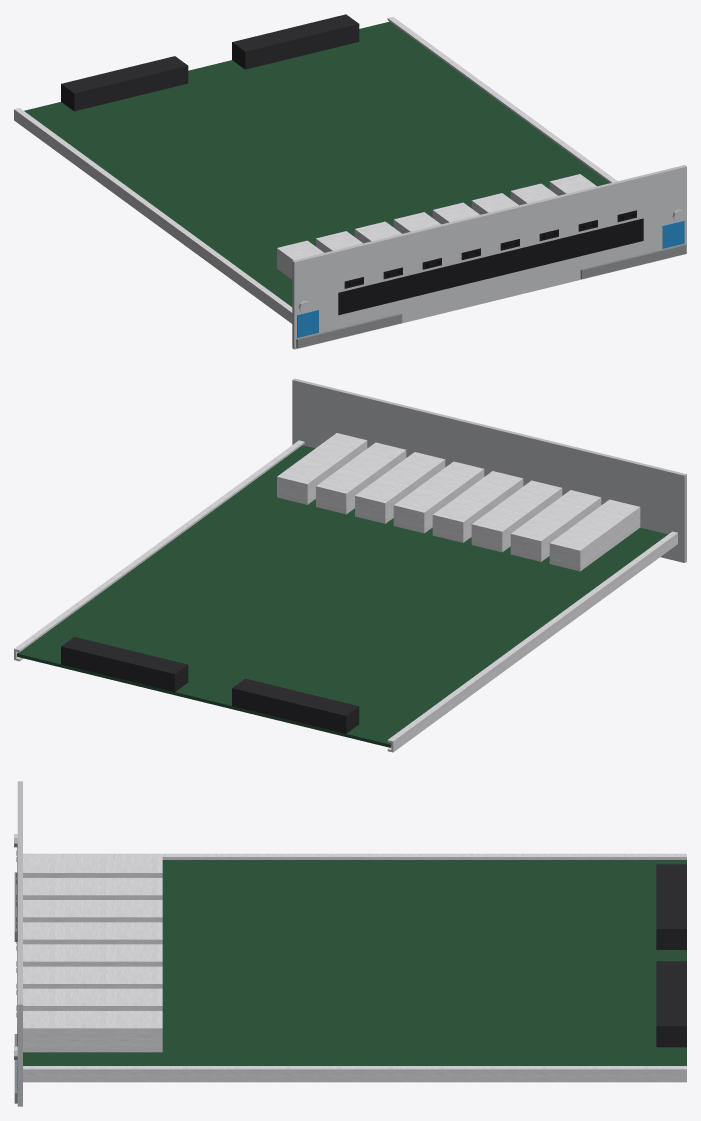
The model's file is J9993A.far.glb.
3 views of the same model, one above another, from view 1: azimuth 30°, elevation 25°; view 2: azimuth 150°, elevation 25°; view 3: azimuth 270°, elevation 25° (orthographic). The views are drawn at different scales.
Parts seen in each view (by area): view 1: Module_far; view 2: Module_far; view 3: Module_far.
Boxes of the visible parts, x1=… form: Module_far: x1=14, y1=14, x2=686, y2=349; Module_far: x1=14, y1=378, x2=686, y2=752; Module_far: x1=14, y1=781, x2=686, y2=1106.
Bounding box in the file's own units: 0.2065 × 0.0439 × 0.2631.
Materials: 3 (2 with a texture image).
